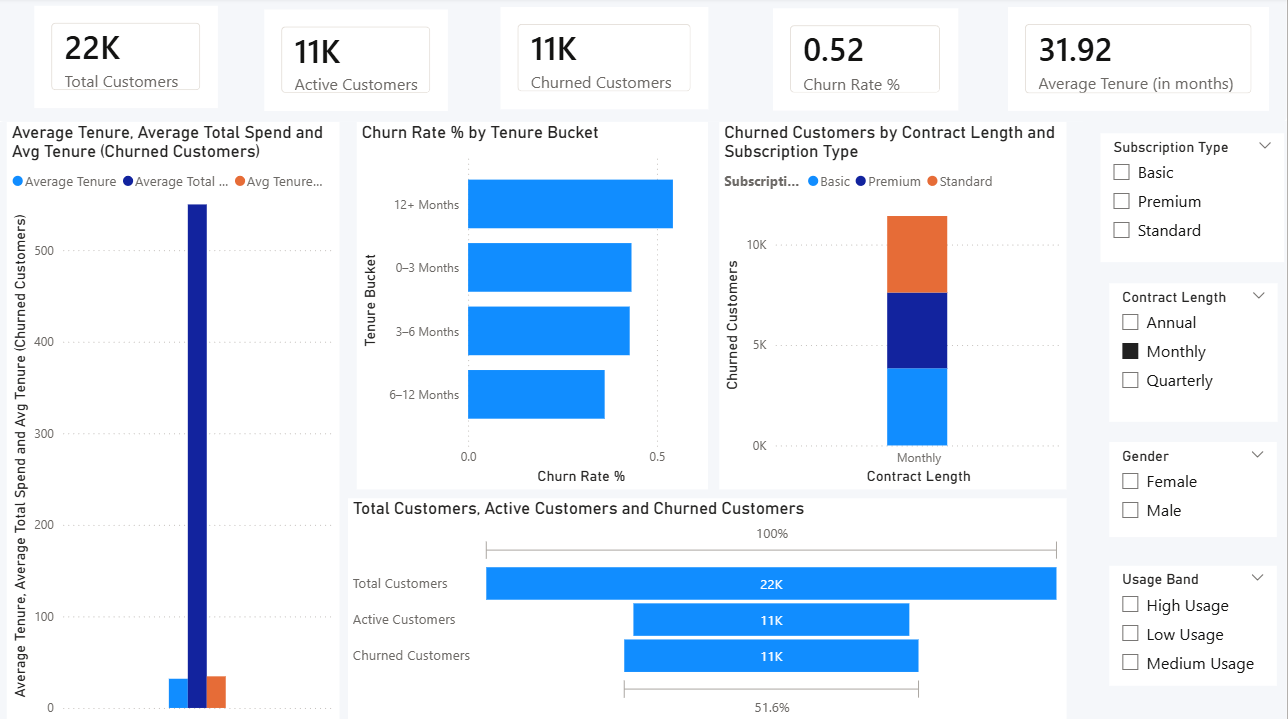

What the dashboard file says about the page in this screenshot:
{"tool":"powerbi","page":{"name":"Page 2","canvas":[1280,720],"ordinal":1},"visuals":[{"type":"shape","box":[1077.4,122.9,202.3,597.1],"z":1000},{"type":"shape","box":[0,124.1,1077.4,595.8],"z":1500},{"type":"shape","box":[0,0,1279.8,124.1],"z":2000},{"type":"clusteredColumnChart","fields":{"Y":["customer_churn_raw.Average Tenure","customer_churn_raw.Average Total Spend","customer_churn_raw.Avg Tenure (Churned Customers)"]},"box":[8.7,124.1,330.2,595.8],"z":3000},{"type":"barChart","fields":{"Category":["customer_churn_raw.Tenure Bucket"],"Y":["customer_churn_raw.Churn Rate %"]},"box":[356.2,124.1,348.8,364.9],"z":4000},{"type":"columnChart","fields":{"Category":["customer_churn_raw.Contract Length"],"Y":["customer_churn_raw.Churned Customers"],"Series":["customer_churn_raw.Subscription Type"]},"box":[716.2,124.1,345.1,364.9],"z":5000},{"type":"funnel","fields":{"Y":["customer_churn_raw.Total Customers","customer_churn_raw.Active Customers","customer_churn_raw.Churned Customers"]},"box":[347.6,497.8,713.7,222.2],"z":6000},{"type":"cardVisual","fields":{"Data":["customer_churn_raw.Total Customers"]},"box":[36,8.7,182.5,101.8],"z":7000},{"type":"cardVisual","fields":{"Data":["customer_churn_raw.Churned Customers"]},"box":[499,9.9,206.1,101.8],"z":8000},{"type":"cardVisual","fields":{"Data":["customer_churn_raw.Churn Rate %"]},"box":[769.6,11.2,183.7,101.8],"z":9000},{"type":"cardVisual","fields":{"Data":["customer_churn_raw.Average Tenure"]},"box":[1003,9.9,259.4,103],"z":10000},{"type":"cardVisual","fields":{"Data":["customer_churn_raw.Active Customers"]},"box":[264.4,12.4,182.5,100.5],"z":11000},{"type":"slicer","fields":{"Values":["customer_churn_raw.Subscription Type"]},"box":[1094.8,135.3,182.5,127.9],"z":12000},{"type":"slicer","fields":{"Values":["customer_churn_raw.Gender"]},"box":[1103.5,441.9,166.3,94.3],"z":13000},{"type":"slicer","fields":{"Values":["customer_churn_raw.Contract Length"]},"box":[1103.5,284.3,167.6,137.8],"z":14000},{"type":"slicer","fields":{"Values":["customer_churn_raw.Usage Band"]},"box":[1103.5,564.8,166.3,119.2],"z":15000}]}

Visuals, with their boxes in screenshot pixels (x1, y1, x2, y2), scaled from the page's 1280x720 canvas onto the 1288x719 screenshot:
shape: 1084, 123, 1287, 718
shape: 0, 124, 1084, 718
shape: 0, 0, 1287, 124
clusteredColumnChart - customer_churn_raw.Average Tenure x customer_churn_raw.Average Total Spend: 9, 124, 341, 718
barChart - customer_churn_raw.Tenure Bucket x customer_churn_raw.Churn Rate %: 358, 124, 709, 488
columnChart - customer_churn_raw.Contract Length x customer_churn_raw.Churned Customers: 721, 124, 1068, 488
funnel - customer_churn_raw.Total Customers x customer_churn_raw.Active Customers: 350, 497, 1068, 718
cardVisual - customer_churn_raw.Total Customers: 36, 9, 220, 110
cardVisual - customer_churn_raw.Churned Customers: 502, 10, 710, 112
cardVisual - customer_churn_raw.Churn Rate %: 774, 11, 959, 113
cardVisual - customer_churn_raw.Average Tenure: 1009, 10, 1270, 113
cardVisual - customer_churn_raw.Active Customers: 266, 12, 450, 113
slicer - customer_churn_raw.Subscription Type: 1102, 135, 1285, 263
slicer - customer_churn_raw.Gender: 1110, 441, 1278, 535
slicer - customer_churn_raw.Contract Length: 1110, 284, 1279, 422
slicer - customer_churn_raw.Usage Band: 1110, 564, 1278, 683
